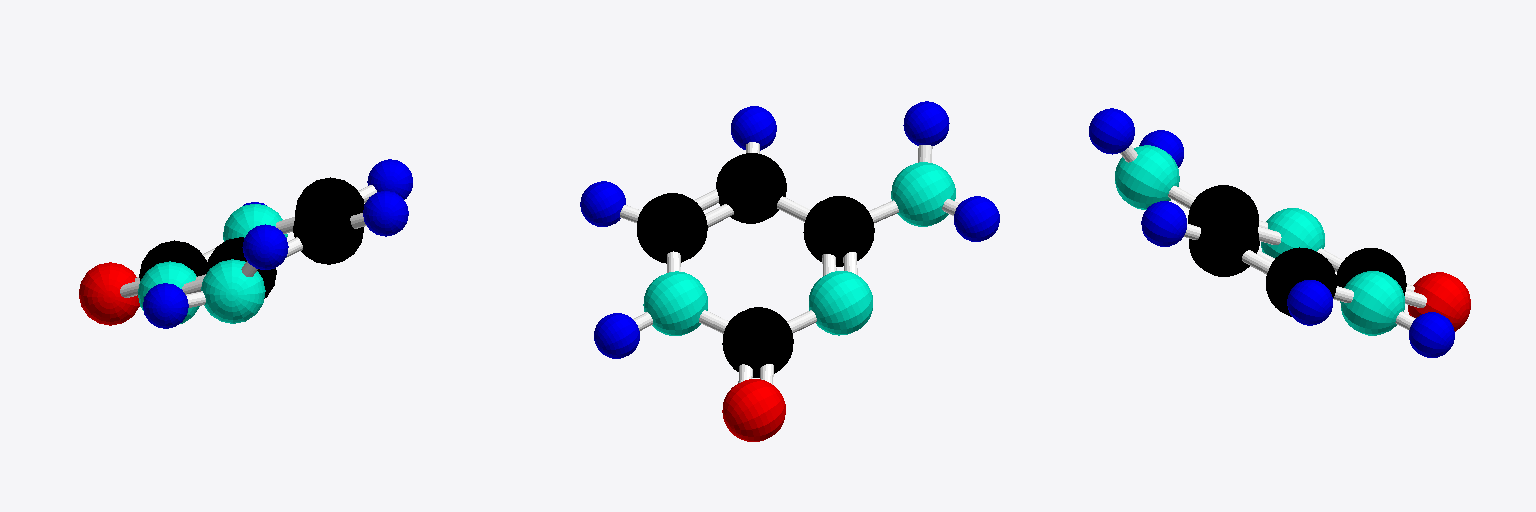
File: citosina.obj
3 renders of one model, left to right at view 1: azimuth 30°, elevation 25°; view 2: azimuth 150°, elevation 25°; view 3: azimuth 270°, elevation 25°, orthographic.
Visible parts, largest first — view 1: carbono_Shape_Sphere.005, nitrogenio.001_Shape_Sphere.011, oxigenio_Shape_Sphere.010, hidrogenio.002_Shape_Sphere.008, hidrogenio.001_Shape_Sphere, hidrogenio_Shape_Sphere.012, carbono.003_Shape_Sphere.001, nitrogenio_Shape_Sphere.009, nitrogenio.002_Shape_Sphere.002, hidrogenio.003_Shape_Sphere.006, carbono.002_Shape_Sphere.003, carbono.001_Shape_Sphere.007; view 2: carbono.002_Shape_Sphere.003, carbono_Shape_Sphere.005, carbono.001_Shape_Sphere.007, carbono.003_Shape_Sphere.001, nitrogenio_Shape_Sphere.009, nitrogenio.002_Shape_Sphere.002, oxigenio_Shape_Sphere.010, nitrogenio.001_Shape_Sphere.011, hidrogenio.004_Shape_Sphere.004, hidrogenio_Shape_Sphere.012, hidrogenio.001_Shape_Sphere, hidrogenio.003_Shape_Sphere.006 (+1 smaller); view 3: carbono_Shape_Sphere.005, nitrogenio.002_Shape_Sphere.002, nitrogenio.001_Shape_Sphere.011, carbono.002_Shape_Sphere.003, oxigenio_Shape_Sphere.010, nitrogenio_Shape_Sphere.009, hidrogenio.004_Shape_Sphere.004, hidrogenio.001_Shape_Sphere, hidrogenio.003_Shape_Sphere.006, hidrogenio.002_Shape_Sphere.008, carbono.003_Shape_Sphere.001, carbono.001_Shape_Sphere.007 (+1 smaller).
Boxes of the visible parts, box(x1,y1,x2,y2) form: carbono_Shape_Sphere.005: box(293, 194, 363, 264); nitrogenio.001_Shape_Sphere.011: box(201, 259, 265, 323); oxigenio_Shape_Sphere.010: box(79, 262, 139, 325); hidrogenio.002_Shape_Sphere.008: box(363, 191, 408, 236); hidrogenio.001_Shape_Sphere: box(242, 224, 288, 269); hidrogenio_Shape_Sphere.012: box(143, 283, 188, 328); carbono.003_Shape_Sphere.001: box(139, 240, 207, 280); nitrogenio_Shape_Sphere.009: box(138, 261, 199, 323); nitrogenio.002_Shape_Sphere.002: box(223, 204, 287, 241); hidrogenio.003_Shape_Sphere.006: box(367, 159, 412, 199); carbono.002_Shape_Sphere.003: box(295, 177, 364, 215); carbono.001_Shape_Sphere.007: box(206, 237, 276, 298); carbono.002_Shape_Sphere.003: box(637, 193, 707, 263); carbono_Shape_Sphere.005: box(716, 153, 786, 223); carbono.001_Shape_Sphere.007: box(803, 196, 874, 266); carbono.003_Shape_Sphere.001: box(722, 307, 793, 377); nitrogenio_Shape_Sphere.009: box(809, 271, 872, 335); nitrogenio.002_Shape_Sphere.002: box(643, 271, 707, 335); oxigenio_Shape_Sphere.010: box(722, 379, 785, 441); nitrogenio.001_Shape_Sphere.011: box(891, 162, 955, 226); hidrogenio.004_Shape_Sphere.004: box(594, 313, 639, 358); hidrogenio_Shape_Sphere.012: box(954, 196, 999, 241); hidrogenio.001_Shape_Sphere: box(903, 101, 949, 145); hidrogenio.003_Shape_Sphere.006: box(580, 181, 625, 226); carbono_Shape_Sphere.005: box(1189, 206, 1259, 276); nitrogenio.002_Shape_Sphere.002: box(1340, 271, 1404, 335); nitrogenio.001_Shape_Sphere.011: box(1115, 145, 1179, 209); carbono.002_Shape_Sphere.003: box(1266, 247, 1336, 316); oxigenio_Shape_Sphere.010: box(1408, 272, 1470, 331); nitrogenio_Shape_Sphere.009: box(1261, 208, 1324, 257); hidrogenio.004_Shape_Sphere.004: box(1409, 312, 1454, 357); hidrogenio.001_Shape_Sphere: box(1089, 108, 1134, 154); hidrogenio.003_Shape_Sphere.006: box(1287, 280, 1332, 325); hidrogenio.002_Shape_Sphere.008: box(1141, 201, 1186, 246); carbono.003_Shape_Sphere.001: box(1336, 248, 1406, 295); carbono.001_Shape_Sphere.007: box(1188, 185, 1258, 228).
Bounding box in the file's own units: 5.58 × 3.44 × 5.45.